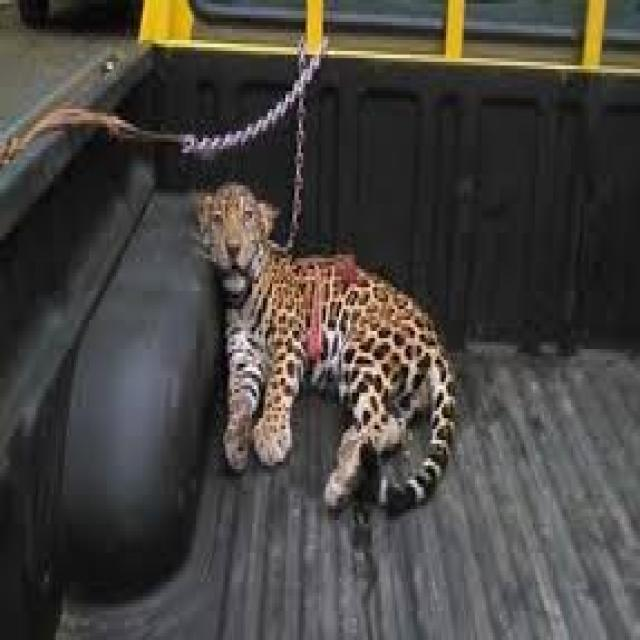Jaguar: (194, 160, 466, 567)
